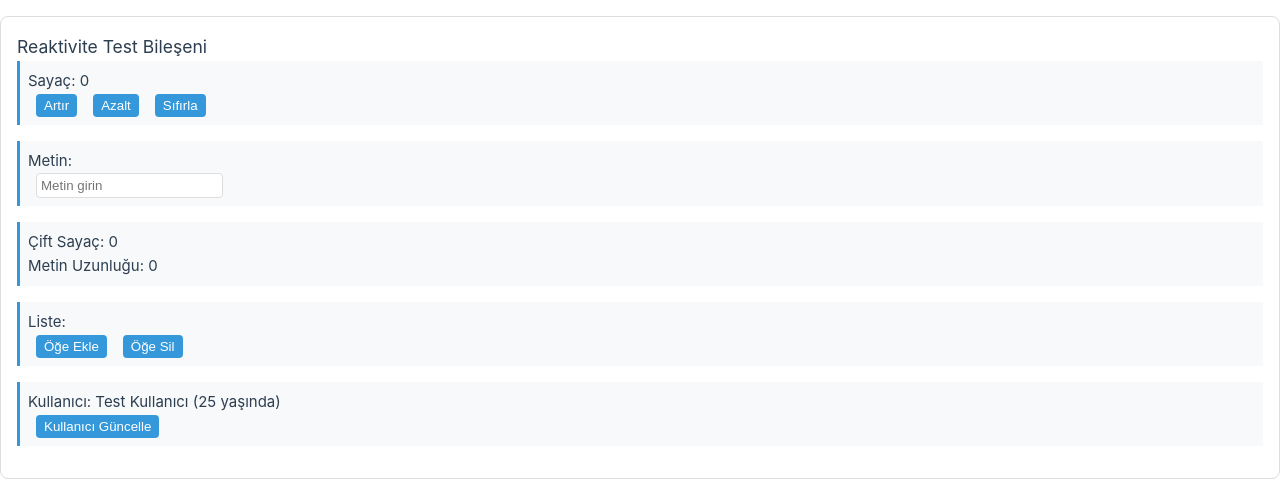
Test: Feature: personel-yonetimi-altyapi, Property 1: Vue Reaktivite Sistemi › Unit Tests - Specific Examples › should handle input changes
This screenshot has width=1280, height=496.
Type "Test metin" into the field with placeholder "Metin girin". click: (130, 186)
box: [36,173,223,198]
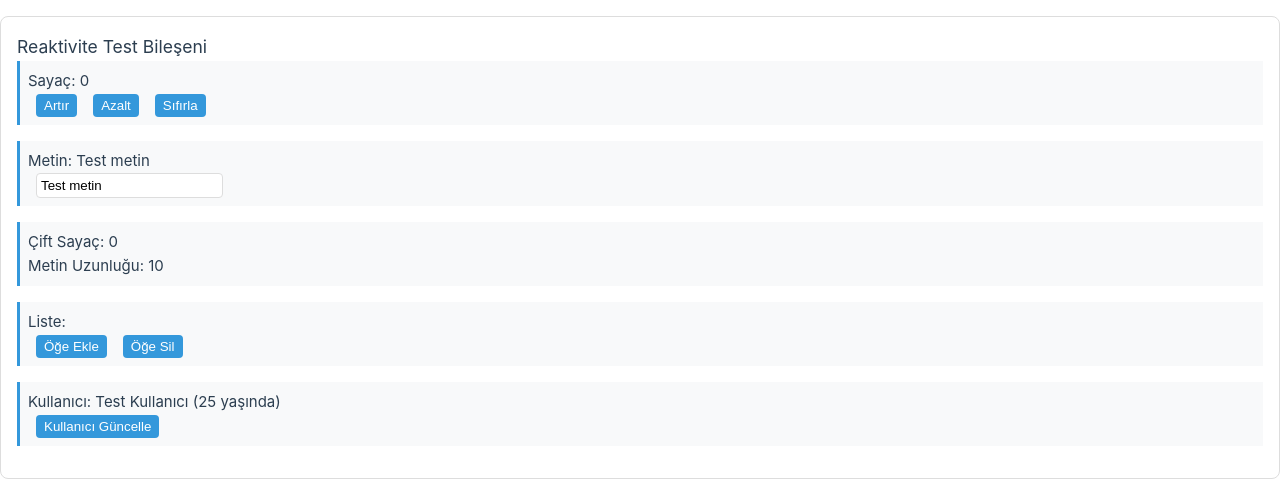
Expected: the text "Metin: Test metin" is shown, [28,151,150,170]
Expected: the text "Metin Uzunluğu: 10" is shown, [28,256,164,275]
